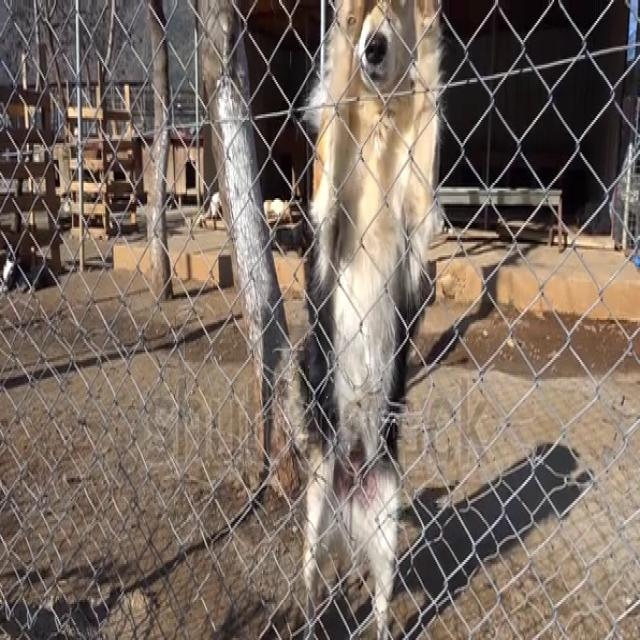injured-animals: (290, 2, 447, 636)
